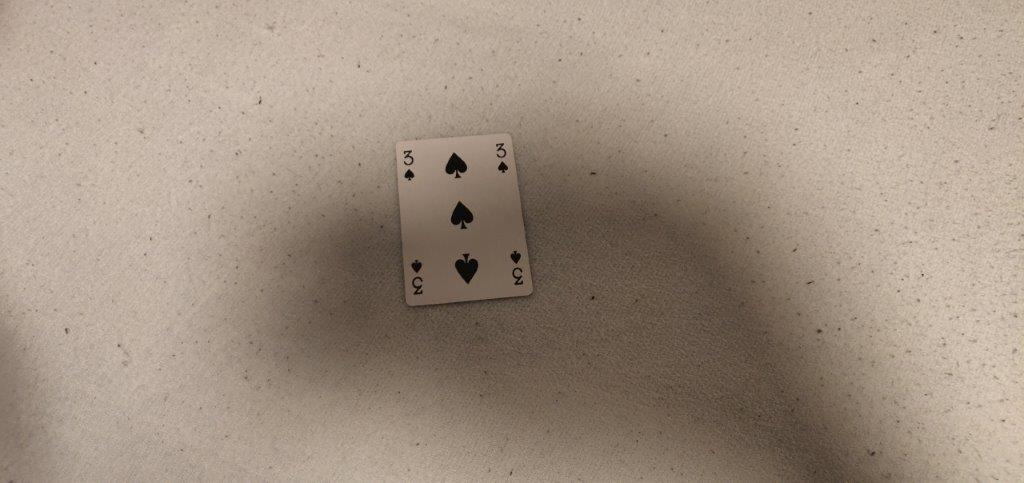3S: (398, 147, 423, 182), (492, 140, 513, 175)
